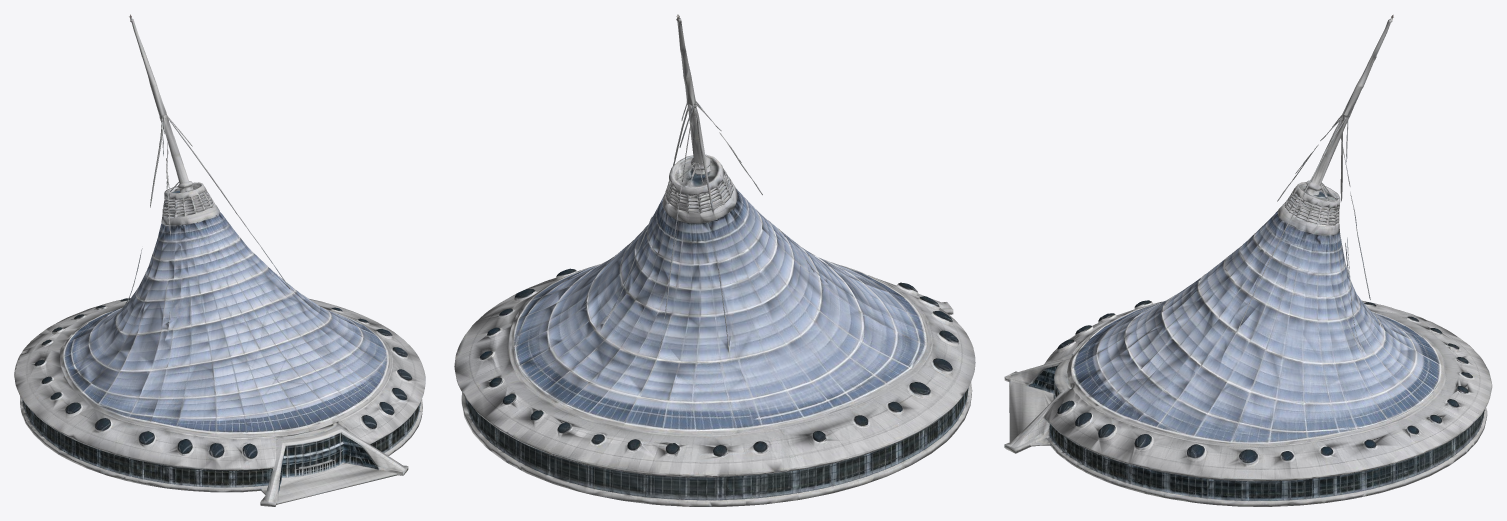
The model's file is khanshatyr.glb.
The picture shows the model from 3 angles, left to right: view 1: azimuth 30°, elevation 25°; view 2: azimuth 150°, elevation 25°; view 3: azimuth 270°, elevation 25°; orthographic projection. The views are drawn at different scales.
Bounding box in the file's own units: 1.73 × 1.66 × 1.9.
1 material, 1 textured.
